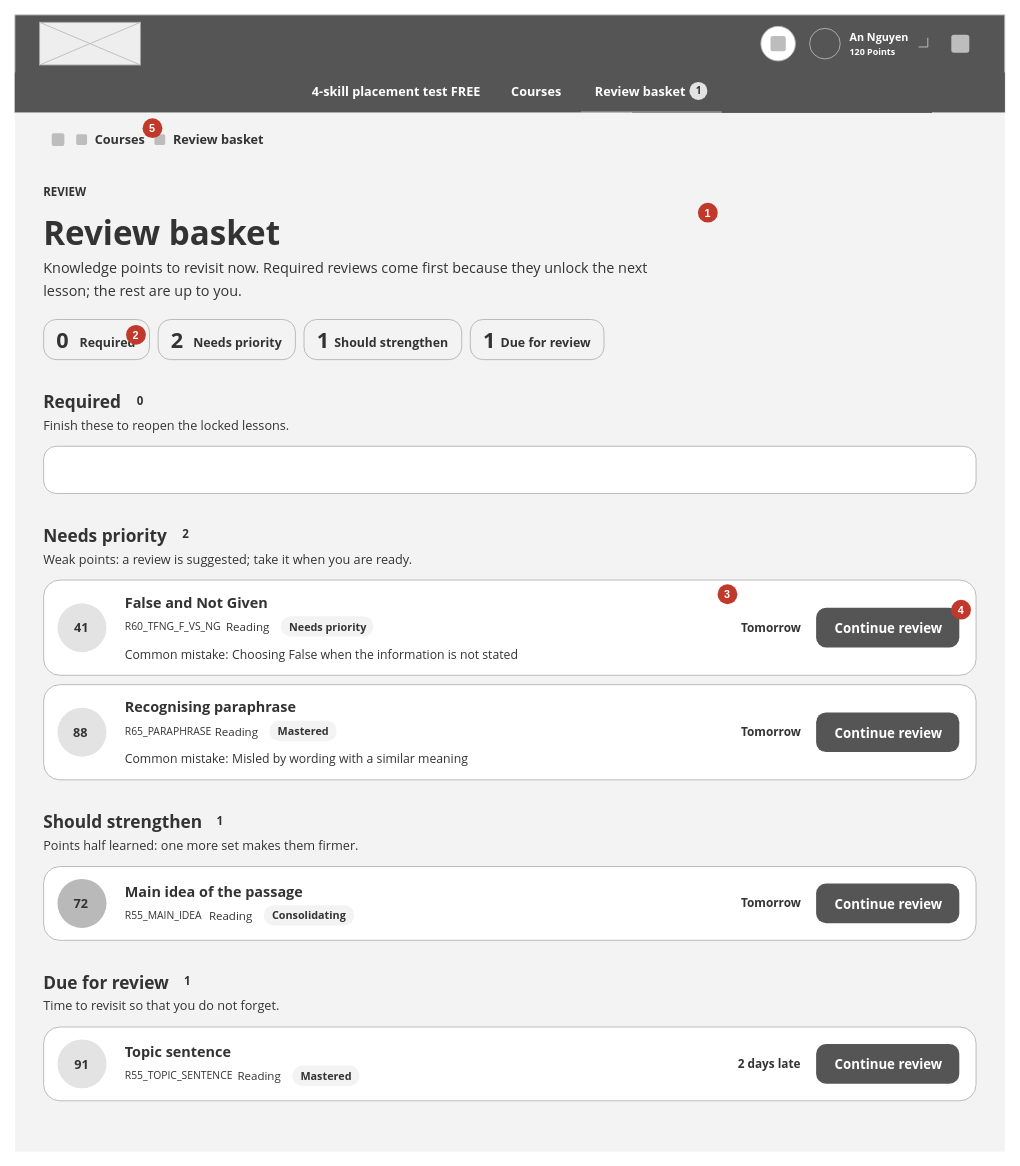
Image size: 1020x1166. Some labels were removed from this diagram. Here are the shapes that lost their labels. From the top down, the centre of each, then its label:
(x=824, y=43): AN
(x=509, y=469): No required review. You are on track.
